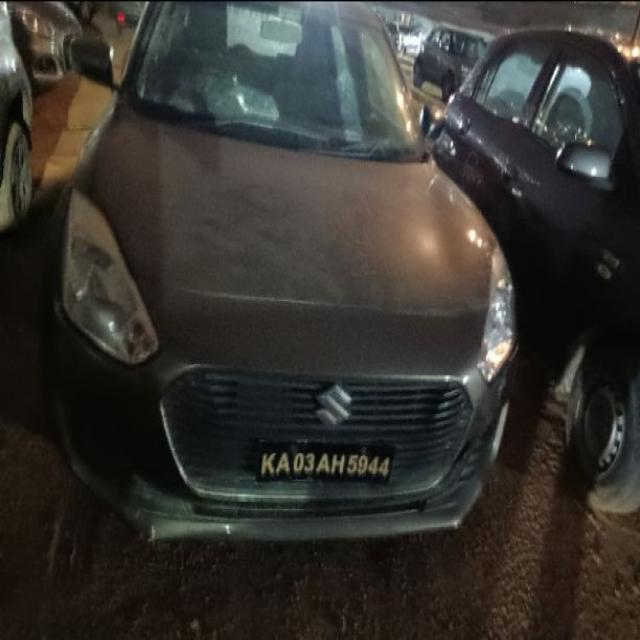license_plate: (253, 438, 395, 484)
